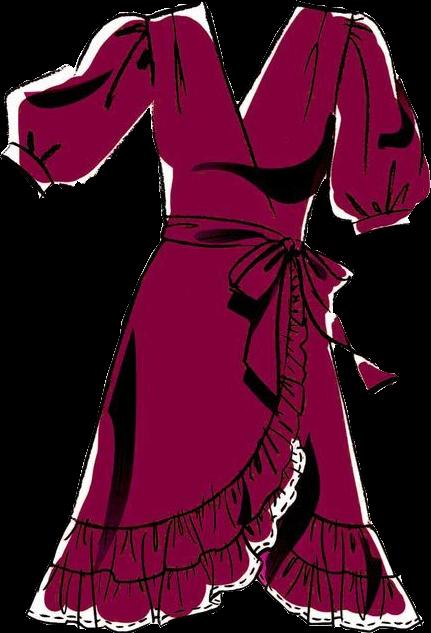Bodice: (147, 2, 356, 250)
Hemline: (23, 249, 308, 632), (255, 577, 425, 632)
Neckline: (203, 0, 302, 112)
Skirt: (27, 239, 421, 631)
Sleeve: (1, 11, 160, 197), (329, 11, 429, 234)
Sleeveline: (332, 13, 360, 121), (7, 141, 55, 187), (142, 14, 155, 115), (350, 207, 411, 222)
Waistline: (159, 235, 308, 254)
